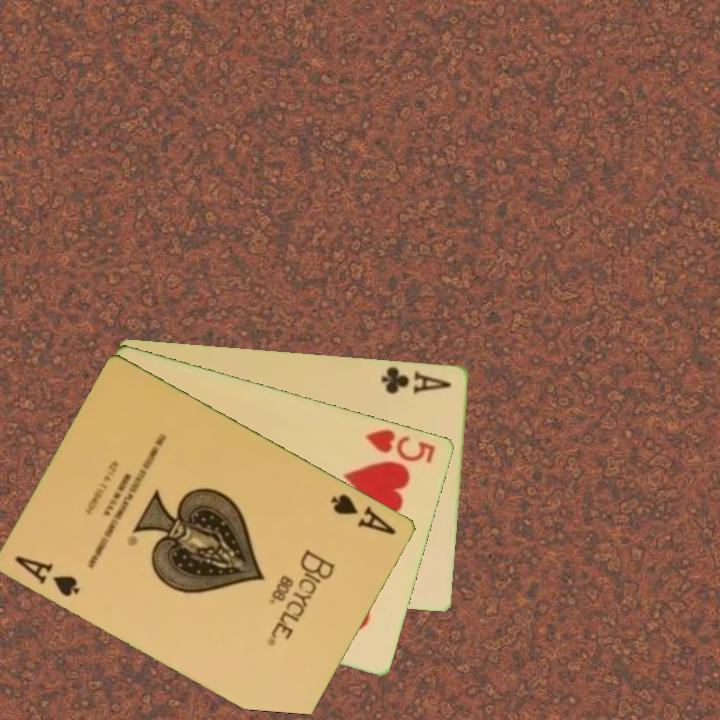5h: (362, 425, 439, 466)
Ac: (378, 363, 454, 397)
As: (327, 490, 400, 538), (12, 552, 84, 600)
